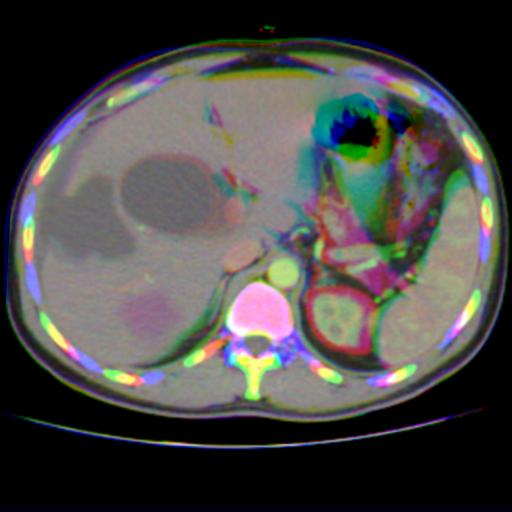Cyst: (121, 156, 235, 232), (41, 176, 133, 260)
